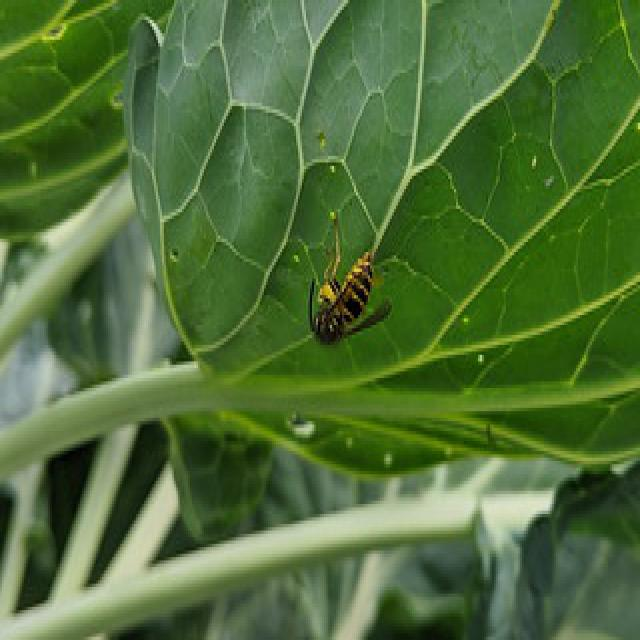Guepe: (298, 217, 399, 358)
